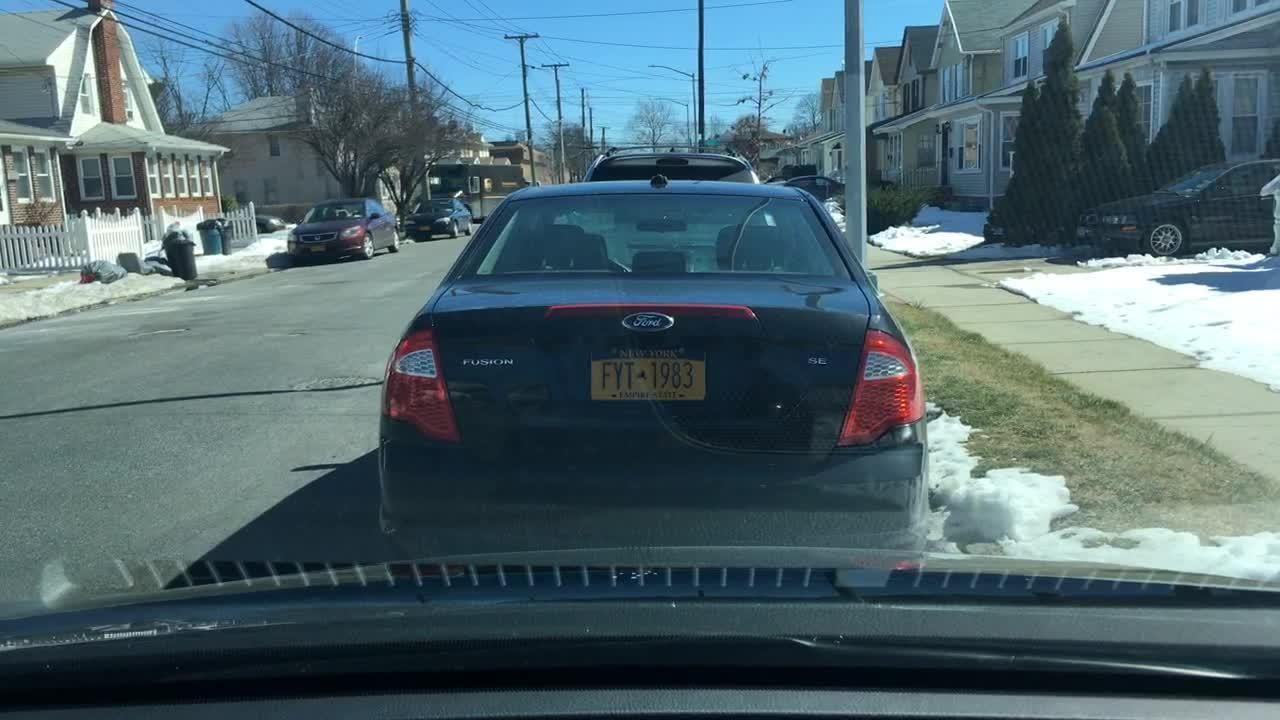ford: (621, 308, 679, 334)
